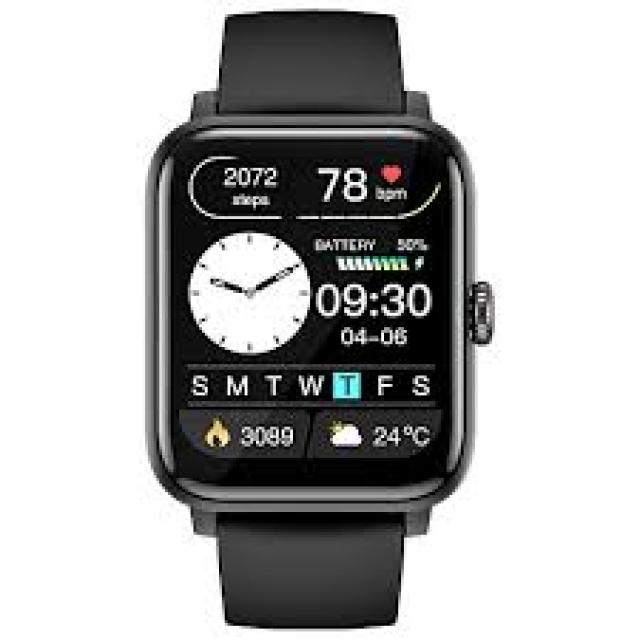objects: (148, 9, 497, 628)
